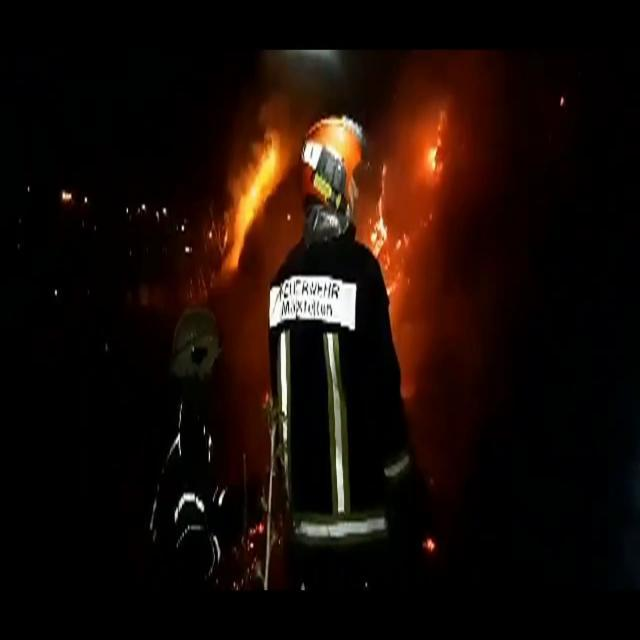Fire: (370, 81, 450, 276), (223, 123, 287, 262)
